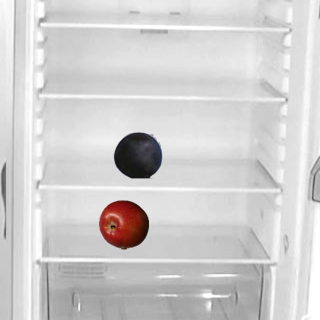Apple Braeburn: (98, 199, 148, 249)
Grape Blue: (112, 129, 162, 179)
